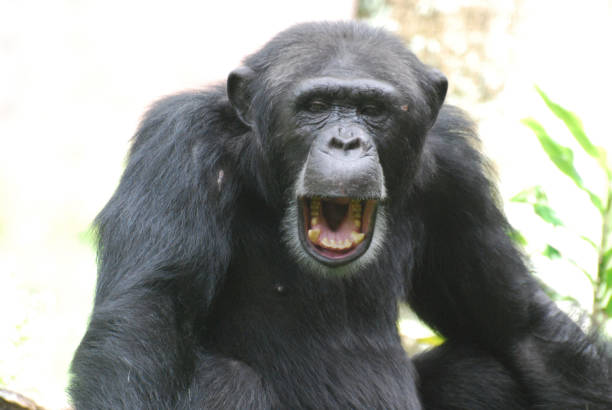chimpanzee: (192, 13, 458, 280)
